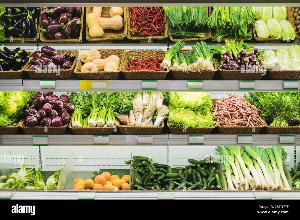bell_pepper: (128, 0, 166, 40), (123, 48, 167, 74)
eggplant: (41, 5, 85, 41), (0, 5, 40, 41), (33, 48, 79, 74), (1, 44, 28, 74)
orange: (69, 159, 137, 193)
zucchini: (132, 145, 222, 193)
